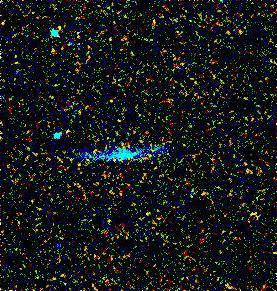star: (45, 11, 75, 41)
